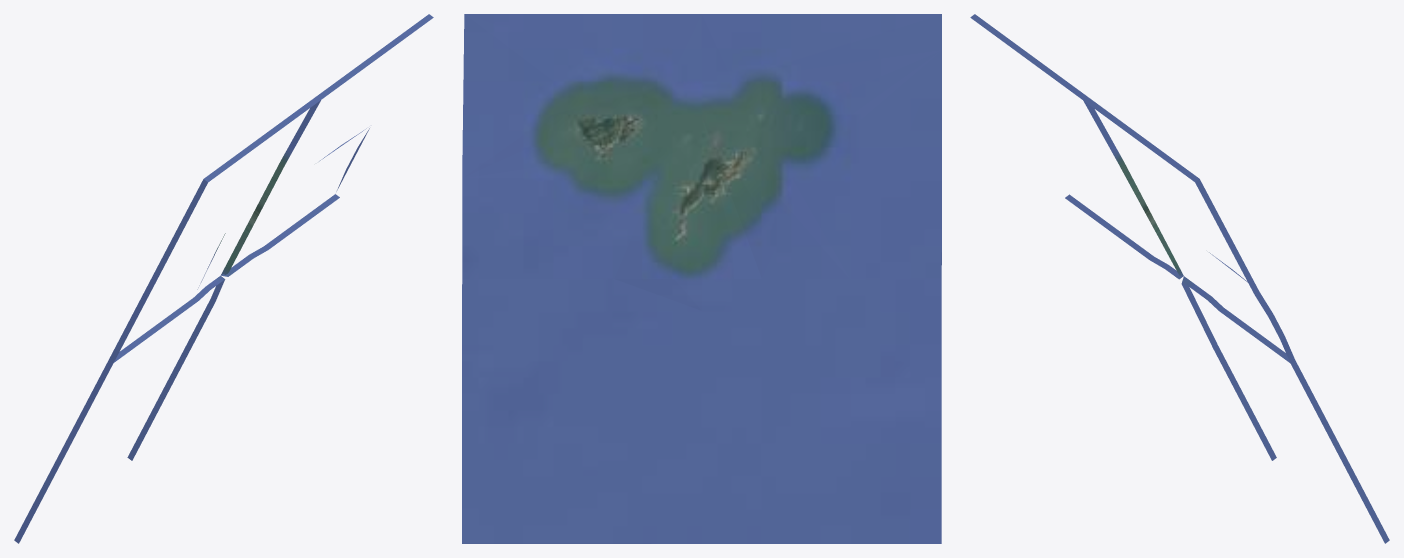
3 renders of one model, left to right at view 1: azimuth 30°, elevation 25°; view 2: azimuth 150°, elevation 25°; view 3: azimuth 270°, elevation 25°, orthographic. The views are drawn at different scales.
Bounding box in the file's own units: 19697 × 17737 × 16478.
Materials: 1 (1 with a texture image).
